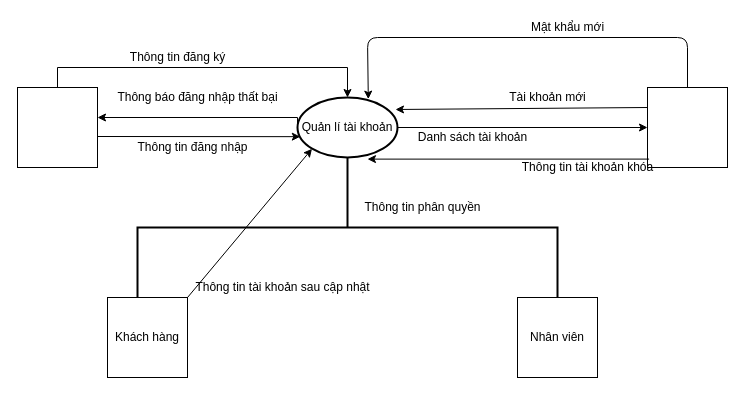
Image size: 745x395. Some labels were removed from this diagram. The shapes that lost their labels are listed below. From the top down, each one's centre as x and y in pixels, then its label:
At (57,127): "Người dùng".
At (687,127): "Quản trị".
